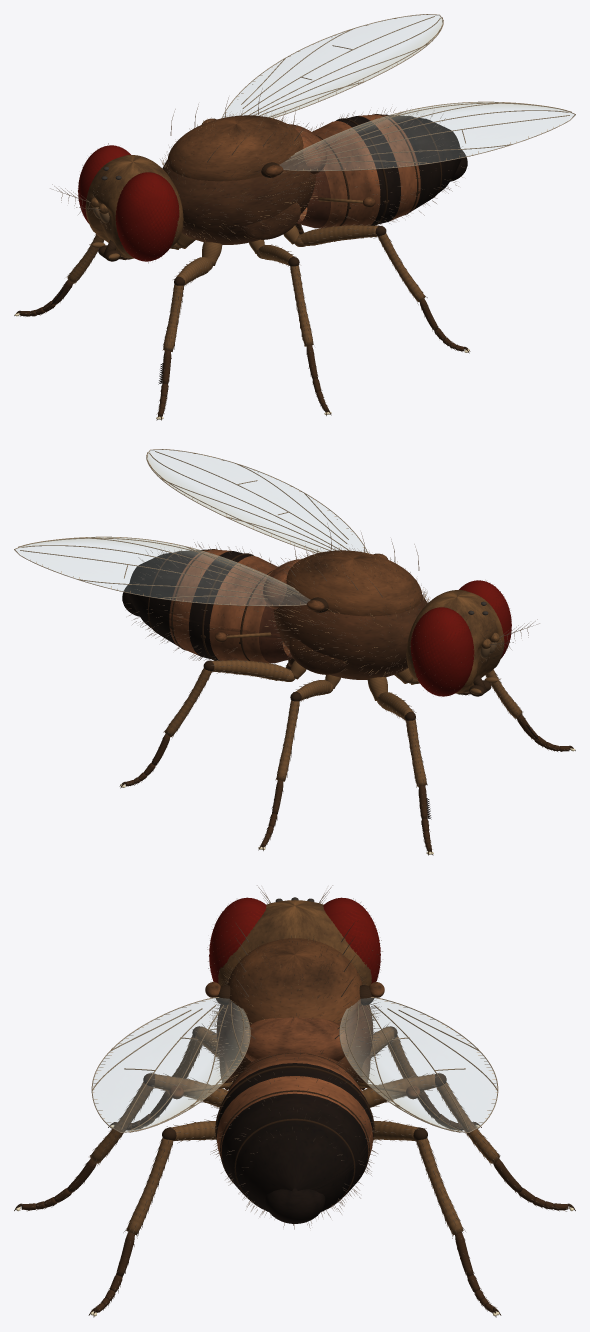
Rendered from male_drosophila.glb.
3 views of the same model, one above another, from view 1: azimuth 30°, elevation 25°; view 2: azimuth 150°, elevation 25°; view 3: azimuth 270°, elevation 25° (orthographic). The views are drawn at different scales.
Parts seen in each view (by area): view 1: 02 abdomen | male tergites, wing | -1 thin membrane, wing | 1 thin membrane, 01 thorax | mesonotum, thorax dorsal warm scutum, eye | -1 individual ommatidia, 03 head | face, eye | -1 base, wing | -1 longitudinal and cross veins, wing | 1 longitudinal and cross veins, leg -1.0.2 femur, eye | 1 individual ommatidia (+12 smaller); view 2: 02 abdomen | male tergites, wing | 1 thin membrane, wing | -1 thin membrane, 01 thorax | mesonotum, thorax dorsal warm scutum, eye | 1 individual ommatidia, 03 head | face, eye | 1 base, wing | 1 longitudinal and cross veins, wing | -1 longitudinal and cross veins, leg 1.0.2 femur, eye | -1 individual ommatidia (+12 smaller); view 3: 02 abdomen | male tergites, wing | 1 thin membrane, wing | -1 thin membrane, thorax dorsal warm scutum, 03 head | face, thorax posterior scutellum, 01 thorax | mesonotum, eye | 1 individual ommatidia, eye | -1 individual ommatidia, abdomen | dark segment seams, abdomen | dark terminalia, wing | 1 longitudinal and cross veins (+19 smaller).
Part boxes in pixels (x1,y1,x2,y2): 02 abdomen | male tergites: (296,114,461,228); wing | -1 thin membrane: (280,102,574,170); wing | 1 thin membrane: (223,15,442,117); 01 thorax | mesonotum: (162,154,316,244); thorax dorsal warm scutum: (167,115,303,181); eye | -1 individual ommatidia: (115,172,179,261); 03 head | face: (85,155,183,258); eye | -1 base: (116,172,178,261); wing | -1 longitudinal and cross veins: (285,102,571,164); wing | 1 longitudinal and cross veins: (240,16,443,117); leg -1.0.2 femur: (294,225,378,246); eye | 1 individual ommatidia: (78,145,130,223); 02 abdomen | male tergites: (128,549,292,663); wing | 1 thin membrane: (15,537,309,605); wing | -1 thin membrane: (147,450,366,552); 01 thorax | mesonotum: (273,589,427,679); thorax dorsal warm scutum: (286,550,422,616); eye | 1 individual ommatidia: (410,607,474,696); 03 head | face: (406,590,504,693); eye | 1 base: (411,607,473,695); wing | 1 longitudinal and cross veins: (18,537,304,599); wing | -1 longitudinal and cross veins: (146,451,349,552); leg 1.0.2 femur: (211,660,295,681); eye | -1 individual ommatidia: (459,580,511,658); 02 abdomen | male tergites: (216,1051,373,1211); wing | 1 thin membrane: (340,998,496,1131); wing | -1 thin membrane: (93,998,249,1131); thorax dorsal warm scutum: (227,938,362,1023); 03 head | face: (218,900,371,985); thorax posterior scutellum: (239,1017,350,1061); 01 thorax | mesonotum: (216,1004,373,1081); eye | 1 individual ommatidia: (323,897,380,983); eye | -1 individual ommatidia: (209,897,266,983); abdomen | dark segment seams: (215,1052,374,1210); abdomen | dark terminalia: (264,1188,325,1223); wing | 1 longitudinal and cross veins: (345,1001,497,1132).
Size of the model in its own units: 4.13 by 1.92 by 3.52.
27 materials, 19 textured.
